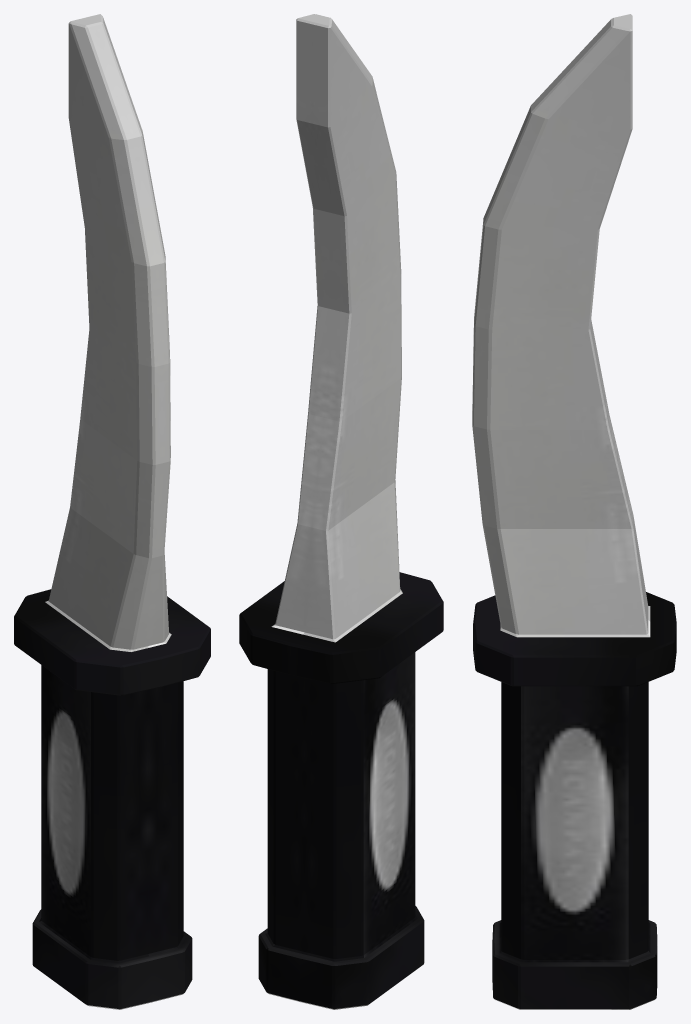
File: v_sledgehammer.fbx
The picture shows the model from 3 angles, left to right: view 1: azimuth 30°, elevation 25°; view 2: azimuth 150°, elevation 25°; view 3: azimuth 270°, elevation 25°; orthographic projection. The views are drawn at different scales.
Parts seen in each view (by area): view 1: Cube; view 2: Cube; view 3: Cube.
Boxes of the visible parts, box(x1,y1,x2,y2) form: Cube: box(14, 14, 210, 1009); Cube: box(239, 14, 443, 1009); Cube: box(472, 14, 676, 1009).
Size of the model in its own units: 121 by 795 by 153.
